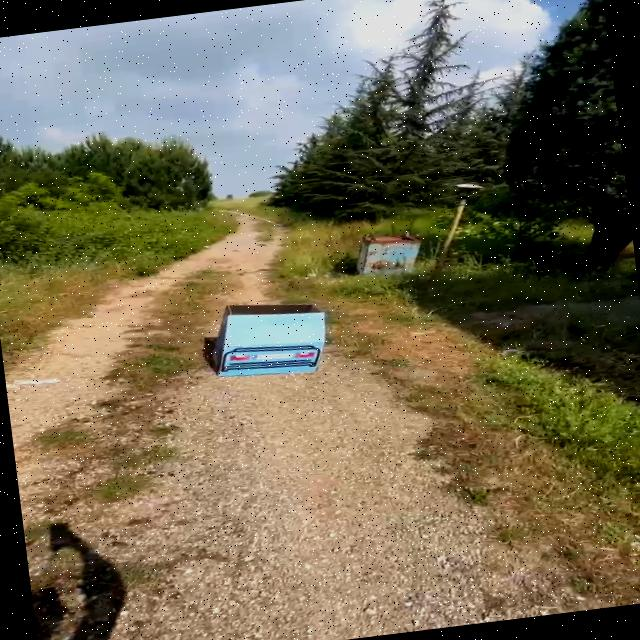blue_car: (189, 281, 352, 399)
